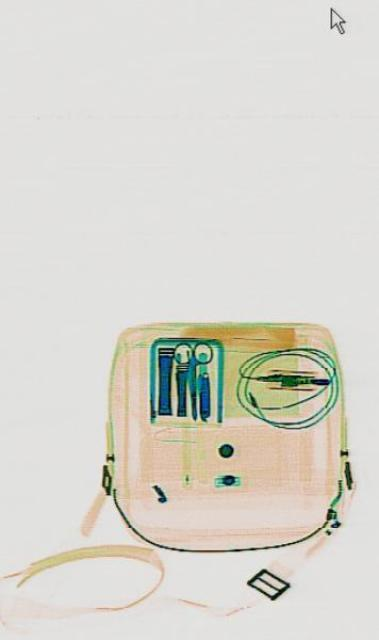Scissors: (172, 338, 213, 422)
